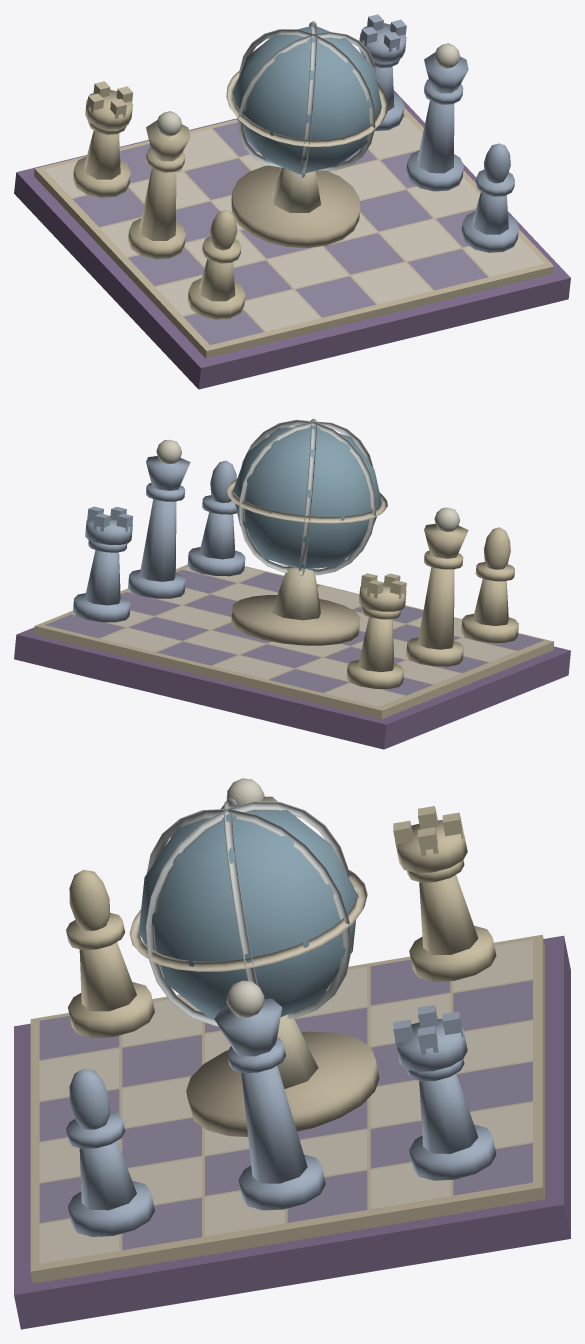
The model's file is ART-42.glb.
3 views of the same model, one above another, from view 1: azimuth 30°, elevation 25°; view 2: azimuth 150°, elevation 25°; view 3: azimuth 270°, elevation 25° (orthographic). The views are drawn at different scales.
Visible parts, largest first — view 1: world; view 2: world; view 3: world.
Part boxes in pixels (x1=…): world: x1=14, y1=14, x2=570, y2=389; world: x1=14, y1=418, x2=570, y2=749; world: x1=14, y1=778, x2=570, y2=1329.
Bounding box in the file's own units: 2 × 1.34 × 1.75.
